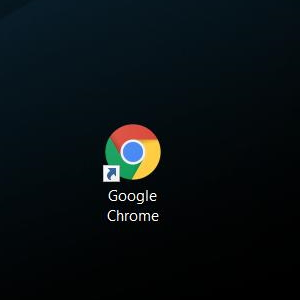chrome: (102, 124, 160, 182)
